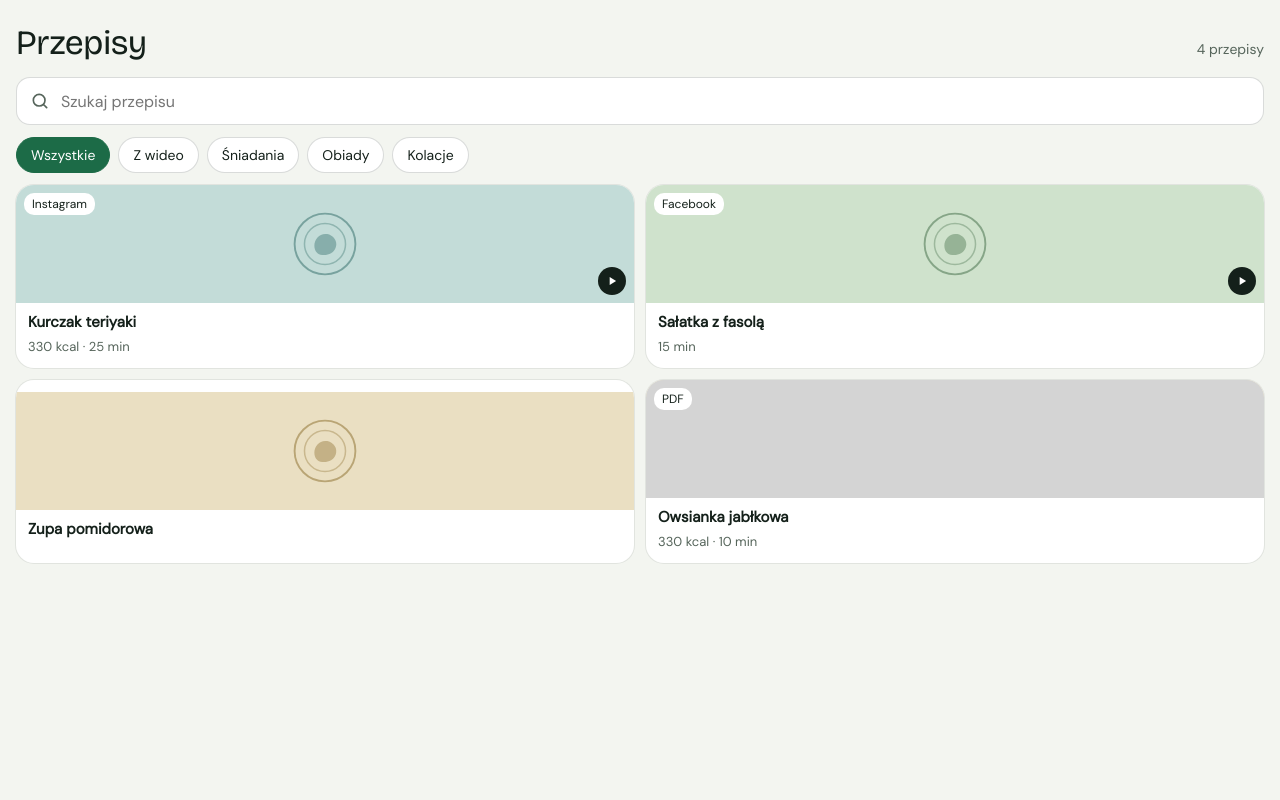
filtr Z wideo pokazuje właściwe karty
Click the button "Z wideo": [159, 155] box [118,133,199,177]
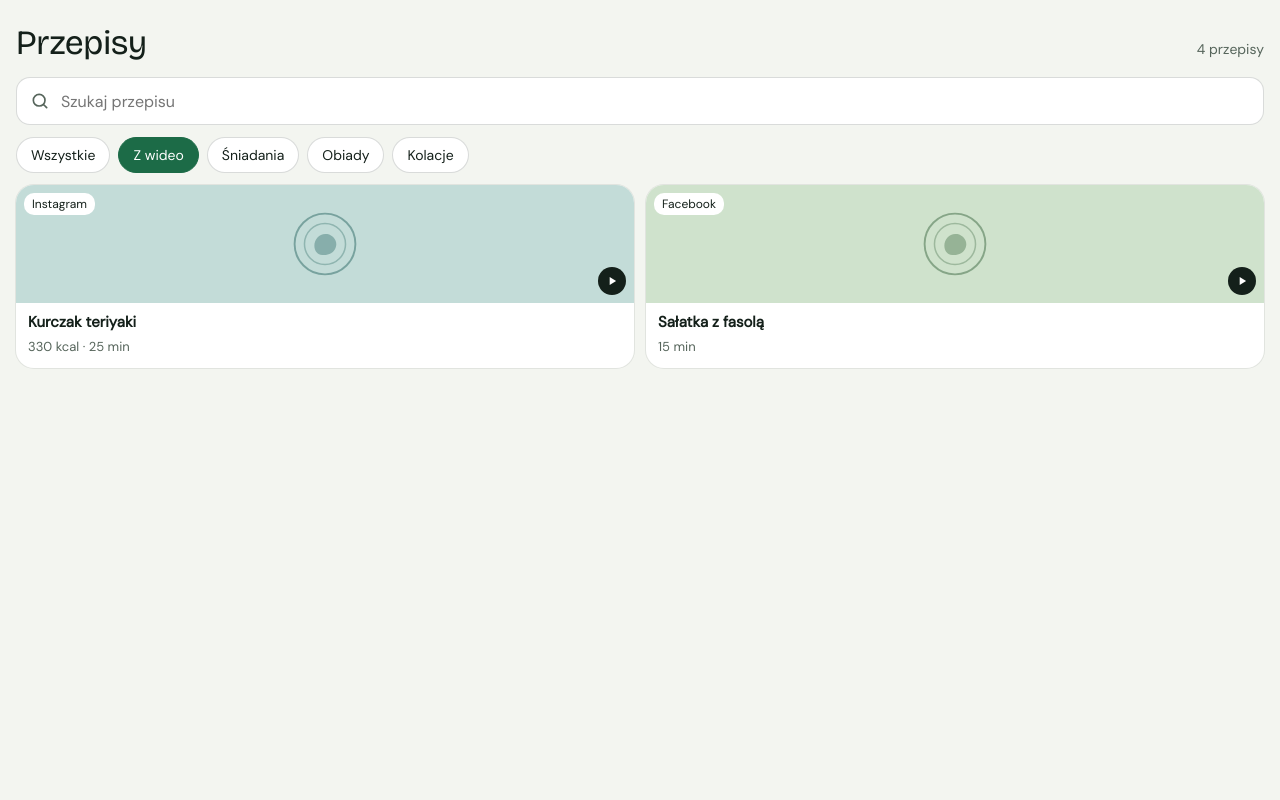
Expected: the number of buttons "Instagram Kurczak teriyaki 330 kcal · 25 min" is 2, [16,185,634,368]; [646,185,1264,368]
Expected: the button "Owsianka" is gone
Expected: the button "Zupa" is gone
